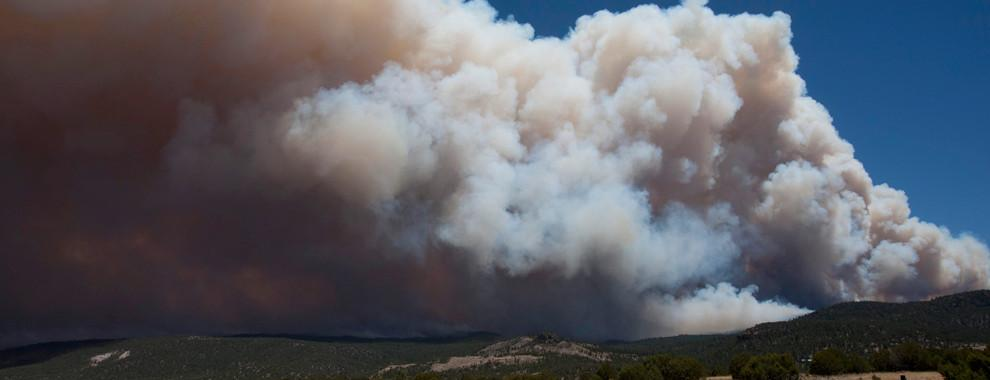smoke: (466, 6, 988, 296), (267, 101, 810, 338)
